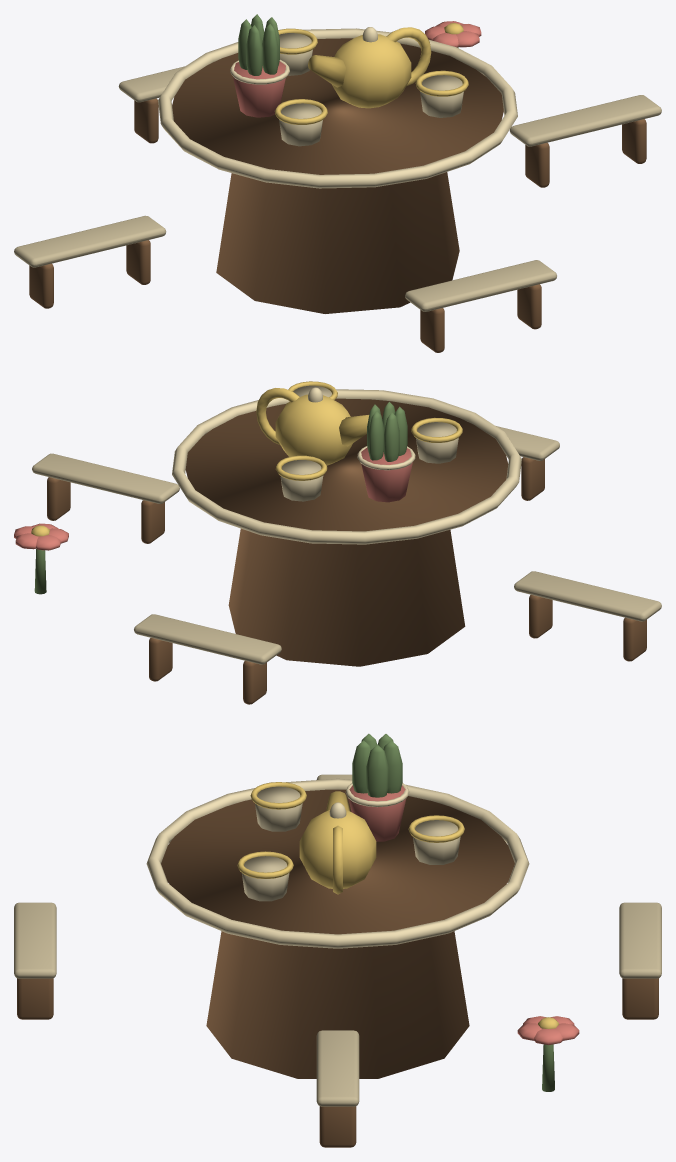
Rendered from discovery_tea-circle.glb.
The picture shows the model from 3 angles, top to bottom: view 1: azimuth 30°, elevation 25°; view 2: azimuth 150°, elevation 25°; view 3: azimuth 270°, elevation 25°; orthographic projection. The views are drawn at different scales.
Visible parts, largest first — view 1: discovery_tea-circle_part_0; view 2: discovery_tea-circle_part_0; view 3: discovery_tea-circle_part_0.
Part boxes in pixels (x1=…): discovery_tea-circle_part_0: x1=14, y1=14, x2=661, y2=352; discovery_tea-circle_part_0: x1=14, y1=381, x2=661, y2=704; discovery_tea-circle_part_0: x1=14, y1=733, x2=661, y2=1147.
Bounding box in the file's own units: 5.86 × 2.16 × 4.92.
